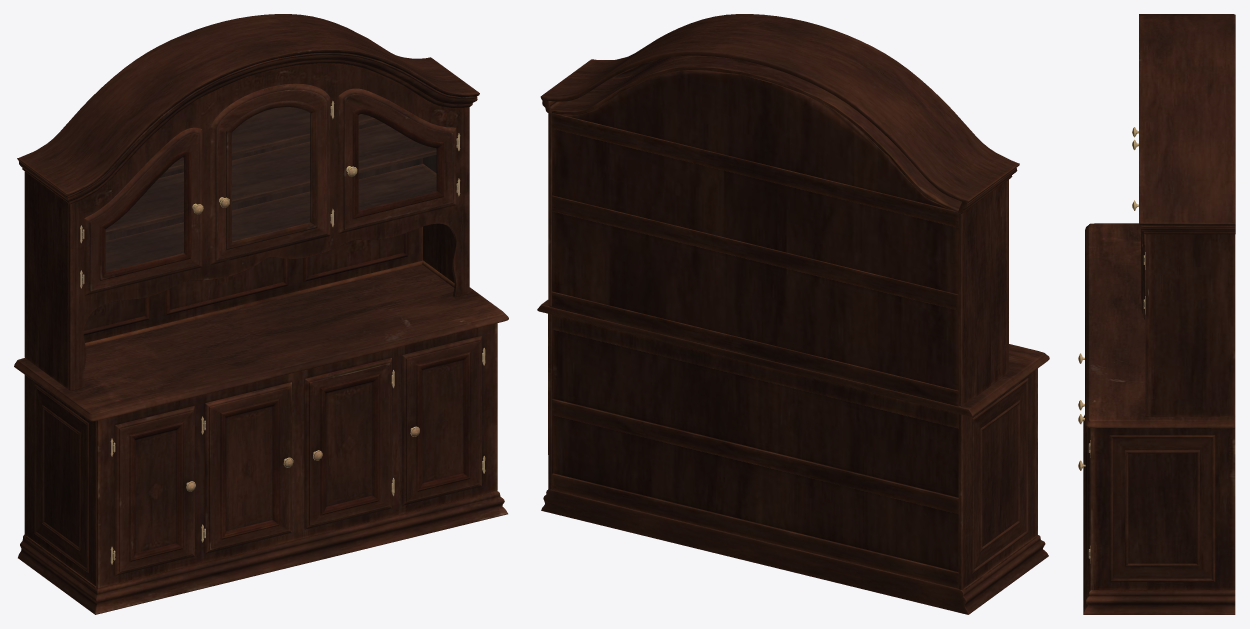
Rendered from vintage_cabinet_01_lod1.glb.
3 views of the same model, side by side, from view 1: azimuth 30°, elevation 25°; view 2: azimuth 150°, elevation 25°; view 3: azimuth 270°, elevation 25° (orthographic). The views are drawn at different scales.
Visible parts, largest first — view 1: vintage_cabinet_01_body, vintage_cabinet_01_door_03, vintage_cabinet_01_door_01, vintage_cabinet_01_door_04, vintage_cabinet_01_door_07, vintage_cabinet_01_door_06, vintage_cabinet_01_door_05, vintage_cabinet_01_door_02; view 2: vintage_cabinet_01_body; view 3: vintage_cabinet_01_body, vintage_cabinet_01_door_02, vintage_cabinet_01_door_04.
Part boxes in pixels (x1,y1,x2,y2): vintage_cabinet_01_body: (14,14,508,614); vintage_cabinet_01_door_03: (210,83,332,264); vintage_cabinet_01_door_01: (82,127,203,295); vintage_cabinet_01_door_04: (338,88,458,233); vintage_cabinet_01_door_07: (304,358,392,529); vintage_cabinet_01_door_06: (204,382,293,553); vintage_cabinet_01_door_05: (113,406,195,575); vintage_cabinet_01_door_02: (402,336,483,505); vintage_cabinet_01_body: (537,14,1049,614); vintage_cabinet_01_body: (1083,14,1235,614); vintage_cabinet_01_door_02: (1078,427,1090,572); vintage_cabinet_01_door_04: (1132,200,1145,319).
Size of the model in its own units: 2.02 by 2.24 by 0.6698.
Materials: 3 (2 with a texture image).
